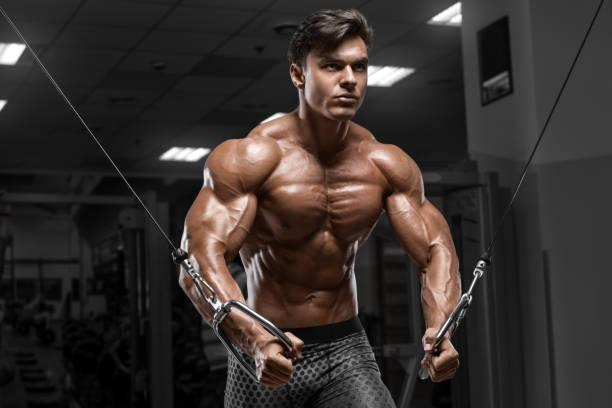Pessoa: (182, 10, 460, 406)
